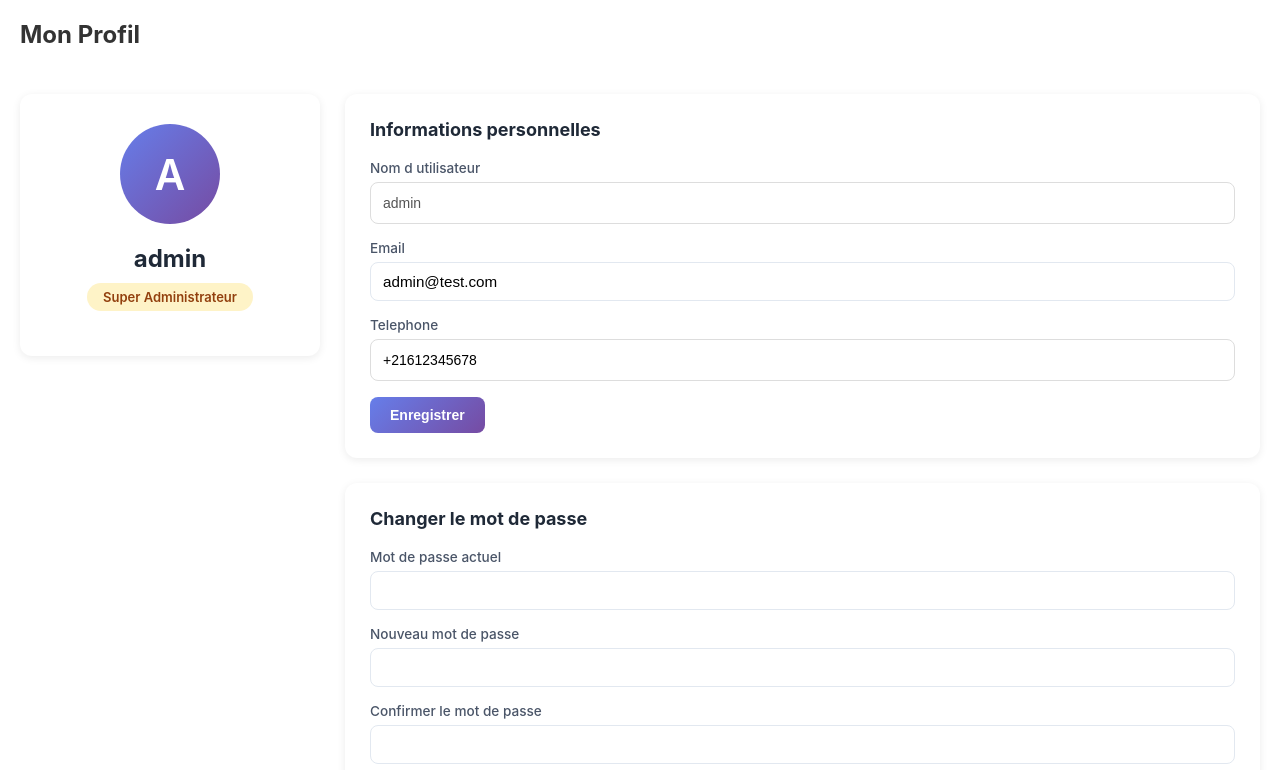
Test: Profile › handles profile update error
expect the field showing "admin@test.com" below "Email" is shown: met, box [370,262,1235,301]
Click the button "Enregistrer": (427, 415) [370,397,485,433]
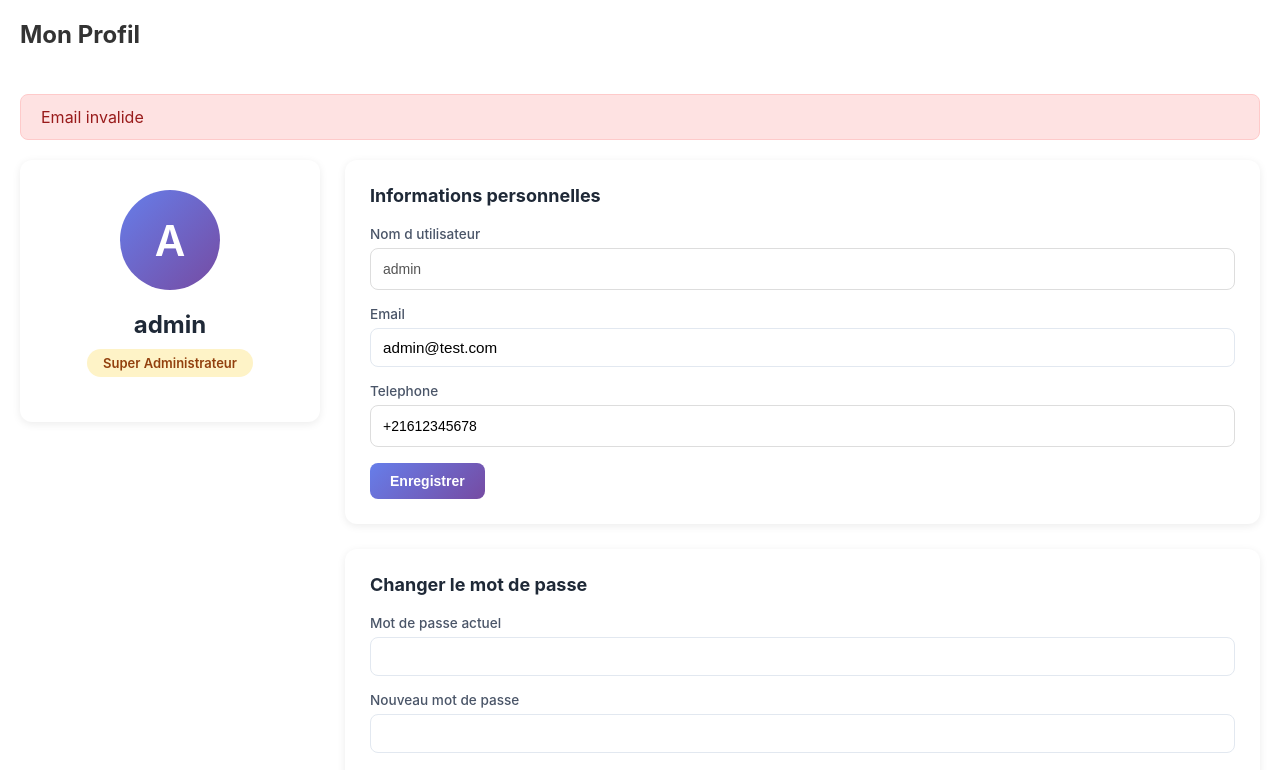
expect the text "Email invalide" is shown: met, box [20,94,1260,140]
